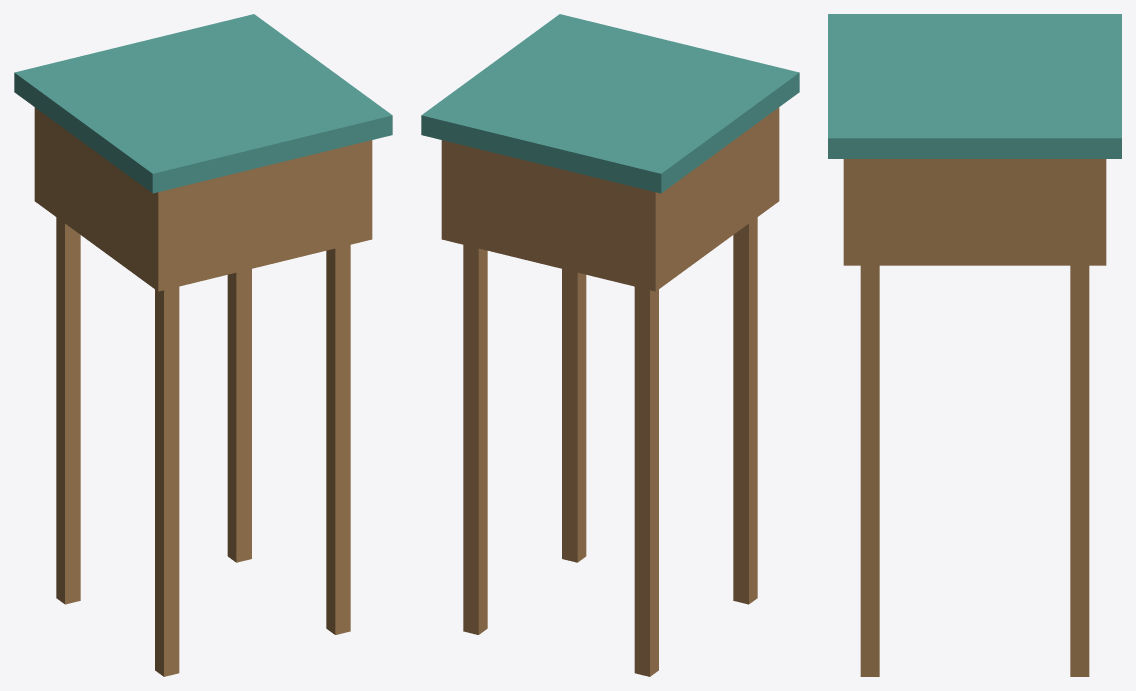
Rendered from fire-lookout.source.glb.
The picture shows the model from 3 angles, left to right: view 1: azimuth 30°, elevation 25°; view 2: azimuth 150°, elevation 25°; view 3: azimuth 270°, elevation 25°; orthographic projection. The views are drawn at different scales.
Visible parts, largest first — view 1: fire-lookout-roof-mesh, fire-lookout-cab-mesh, fire-lookout-leg--1-1-mesh, fire-lookout-leg-1-1-mesh, fire-lookout-leg--1--1-mesh, fire-lookout-leg-1--1-mesh; view 2: fire-lookout-roof-mesh, fire-lookout-cab-mesh, fire-lookout-leg--1--1-mesh, fire-lookout-leg-1--1-mesh, fire-lookout-leg--1-1-mesh, fire-lookout-leg-1-1-mesh; view 3: fire-lookout-roof-mesh, fire-lookout-cab-mesh, fire-lookout-leg-1--1-mesh, fire-lookout-leg-1-1-mesh.
Part boxes in pixels (x1,y1,x2,y2): fire-lookout-roof-mesh: (14, 14, 392, 193); fire-lookout-cab-mesh: (34, 107, 372, 291); fire-lookout-leg--1-1-mesh: (155, 286, 179, 676); fire-lookout-leg-1-1-mesh: (326, 245, 350, 634); fire-lookout-leg--1--1-mesh: (56, 217, 80, 604); fire-lookout-leg-1--1-mesh: (227, 269, 251, 562); fire-lookout-roof-mesh: (421, 14, 799, 193); fire-lookout-cab-mesh: (441, 107, 779, 291); fire-lookout-leg--1--1-mesh: (634, 286, 658, 676); fire-lookout-leg-1--1-mesh: (463, 245, 487, 634); fire-lookout-leg--1-1-mesh: (733, 217, 757, 604); fire-lookout-leg-1-1-mesh: (562, 269, 586, 562); fire-lookout-roof-mesh: (828, 14, 1121, 158); fire-lookout-cab-mesh: (843, 159, 1106, 265); fire-lookout-leg-1--1-mesh: (1070, 265, 1089, 676); fire-lookout-leg-1-1-mesh: (860, 265, 879, 676).
Bounding box in the file's own units: 2.8 × 5.81 × 2.8.
